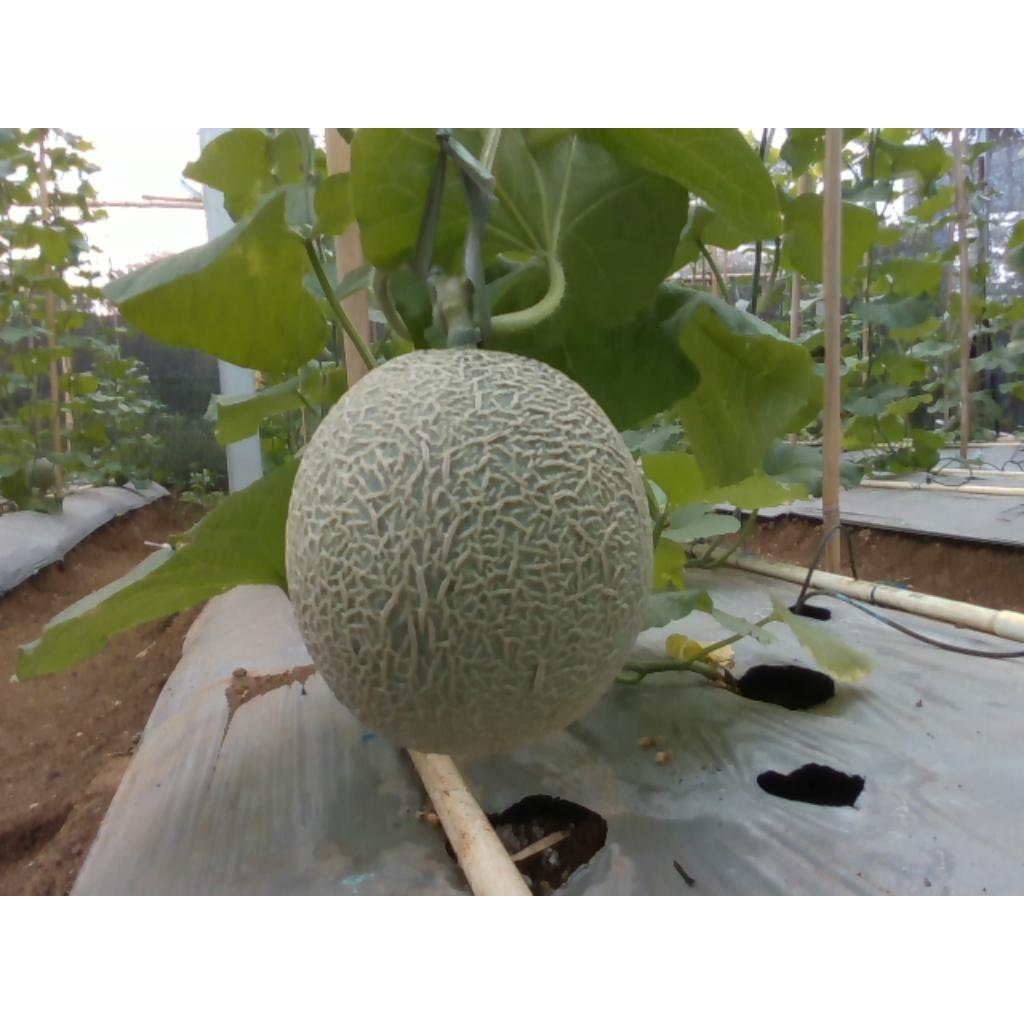melon: (286, 350, 651, 754)
